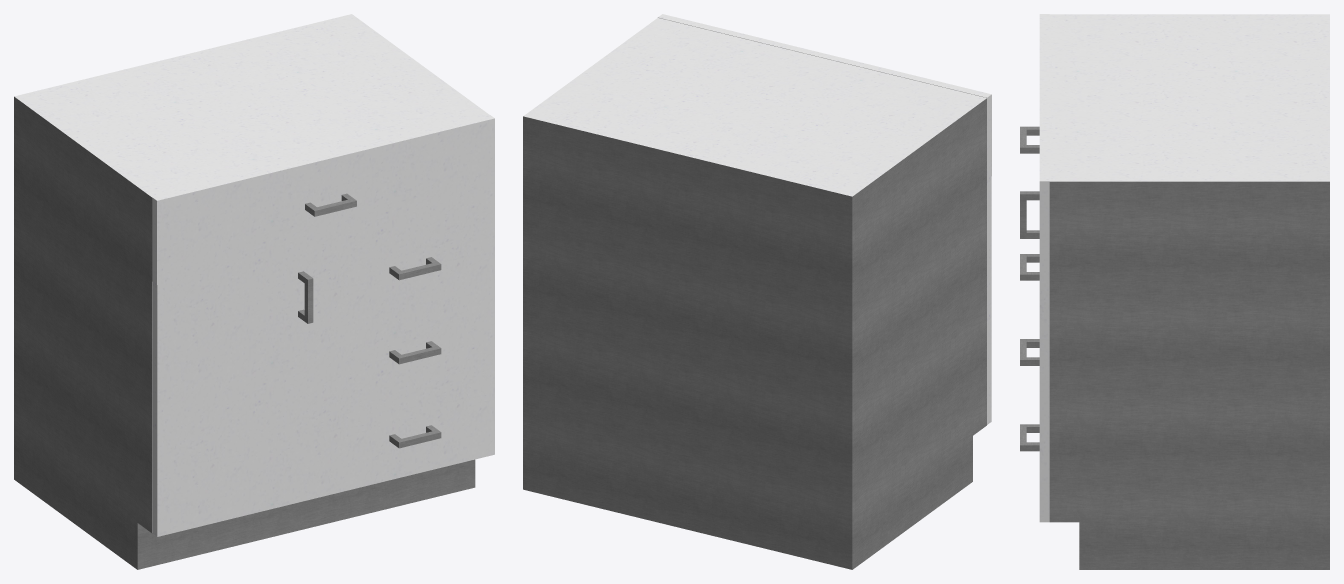
Rendered from Cupb_sing2.fbx.
3 views of the same model, side by side, from view 1: azimuth 30°, elevation 25°; view 2: azimuth 150°, elevation 25°; view 3: azimuth 270°, elevation 25° (orthographic). The views are drawn at different scales.
Parts seen in each view (by area): view 1: Model; view 2: Model; view 3: Model.
Boxes of the visible parts, x1=… form: Model: x1=14, y1=14, x2=494, y2=569; Model: x1=523, y1=14, x2=991, y2=569; Model: x1=1020, y1=14, x2=1329, y2=569.
Size of the model in its own units: 76.2 by 82.62 by 59.69.
